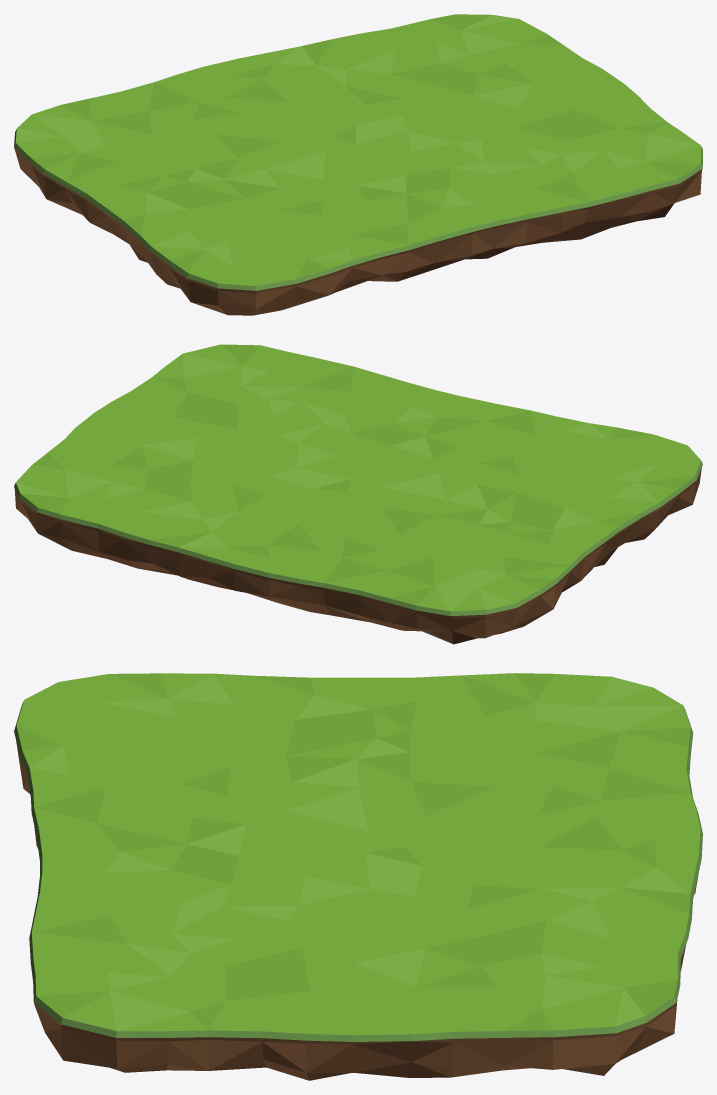
The model's file is FMS_Garden_Demo_Island.fbx.
3 views of the same model, one above another, from view 1: azimuth 30°, elevation 25°; view 2: azimuth 150°, elevation 25°; view 3: azimuth 270°, elevation 25° (orthographic). The views are drawn at different scales.
Parts seen in each view (by area): view 1: Island; view 2: Island; view 3: Island.
Part boxes in pixels (box(x1,y1,x2,y2)): Island: box(14, 14, 702, 315); Island: box(14, 344, 702, 644); Island: box(14, 673, 702, 1080).
Size of the model in its own units: 20.45 by 2.93 by 16.35.
